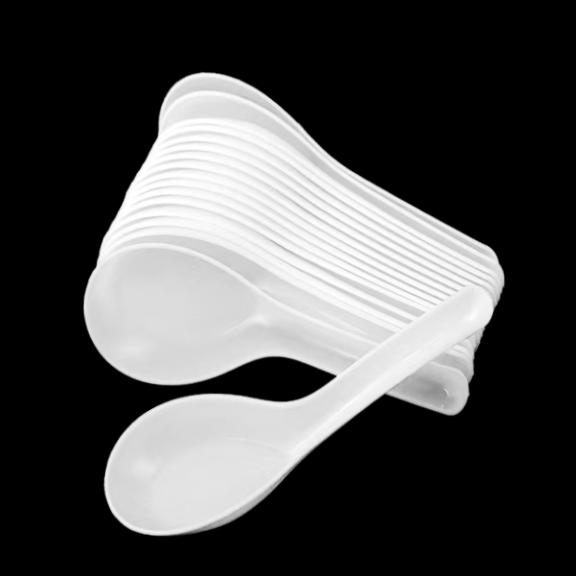Plastik: (105, 288, 492, 534), (85, 244, 375, 384)
